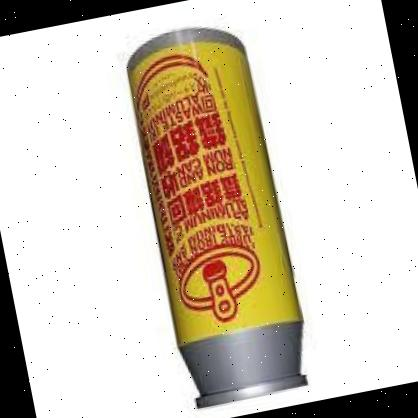can: (117, 17, 319, 412)
